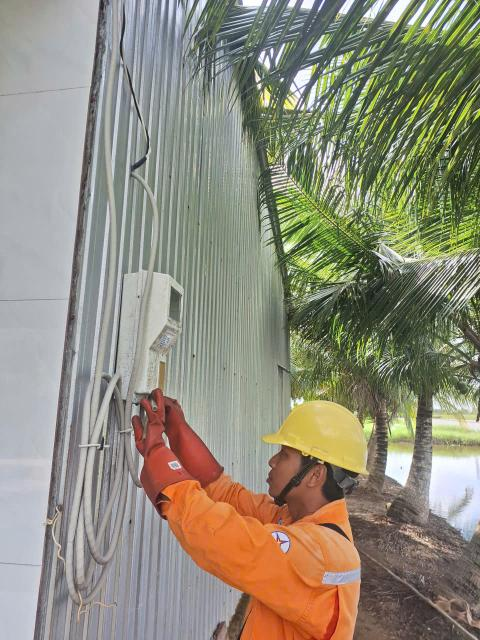gloves: (108, 395, 192, 509), (154, 388, 232, 488)
helmet: (250, 376, 381, 480)
